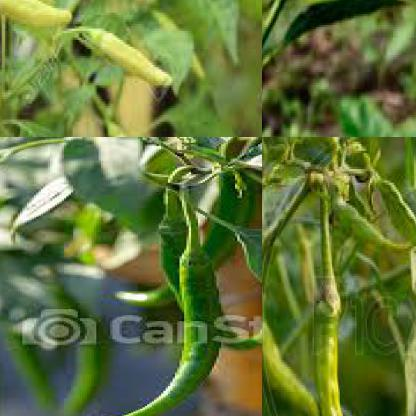Green Chilli: (91, 251, 222, 415), (114, 172, 261, 304), (82, 22, 173, 90), (311, 296, 363, 415), (262, 317, 322, 415), (158, 216, 188, 310), (0, 0, 74, 34)
